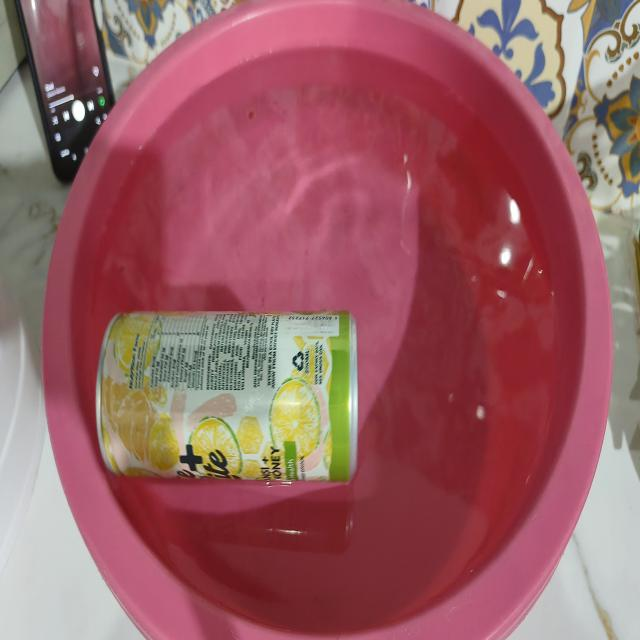Aluminum Can: (76, 261, 386, 533)
